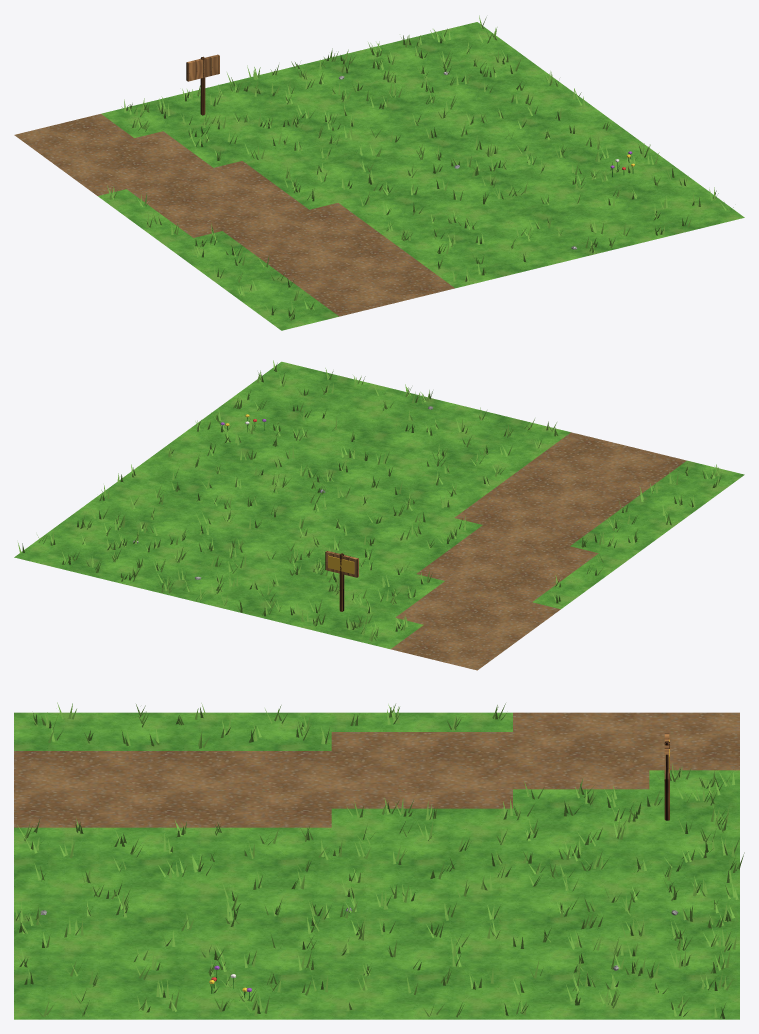
The model's file is chunk_6_14.glb.
The picture shows the model from 3 angles, top to bottom: view 1: azimuth 30°, elevation 25°; view 2: azimuth 150°, elevation 25°; view 3: azimuth 270°, elevation 25°; orthographic projection. The views are drawn at different scales.
Visible parts, largest first — view 1: chunk_6_14; view 2: chunk_6_14; view 3: chunk_6_14.
Part boxes in pixels (x1,y1,x2,y2): chunk_6_14: (14, 15, 744, 330); chunk_6_14: (14, 360, 744, 670); chunk_6_14: (14, 702, 744, 1019).
Bounding box in the file's own units: 16.11 × 1.95 × 16.11.
13 materials, 7 textured.
